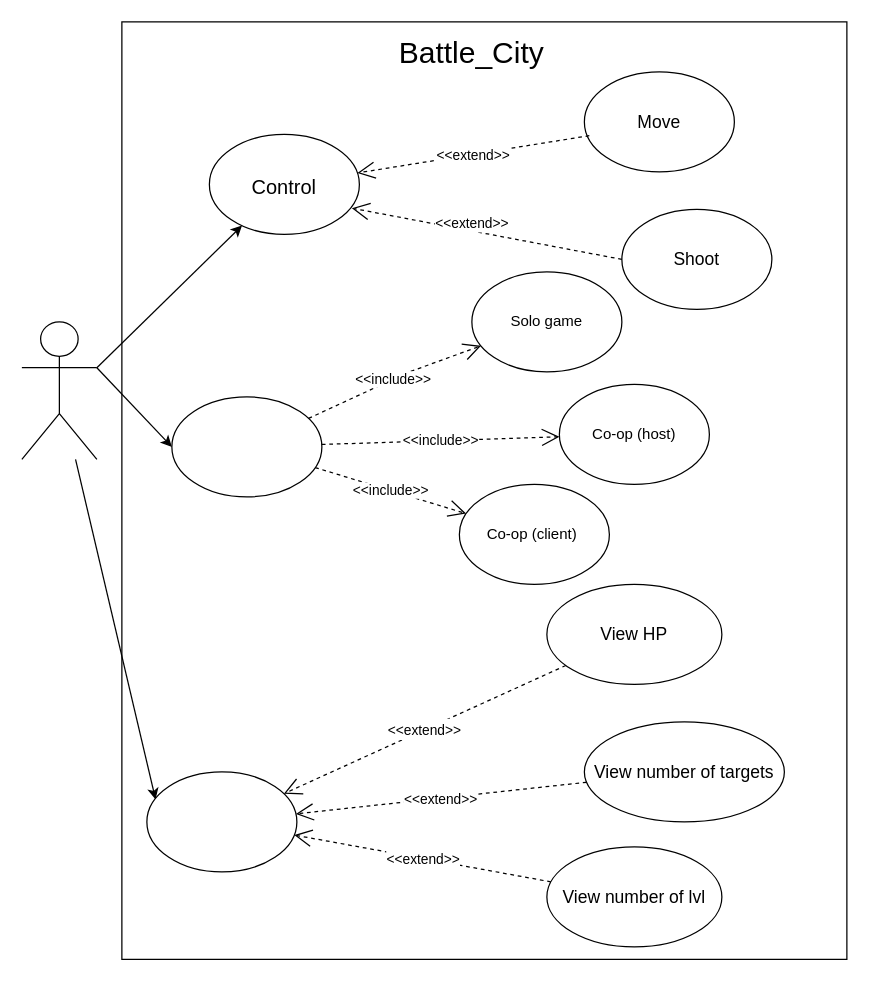
Image size: 869x981. Some labels were removed from this diagram. Here are the shapes that lost their labels. From the top down, the box of each, then its label:
(21, 321, 97, 459): Actor
(171, 396, 322, 497): New game
(146, 771, 297, 872): View game info
